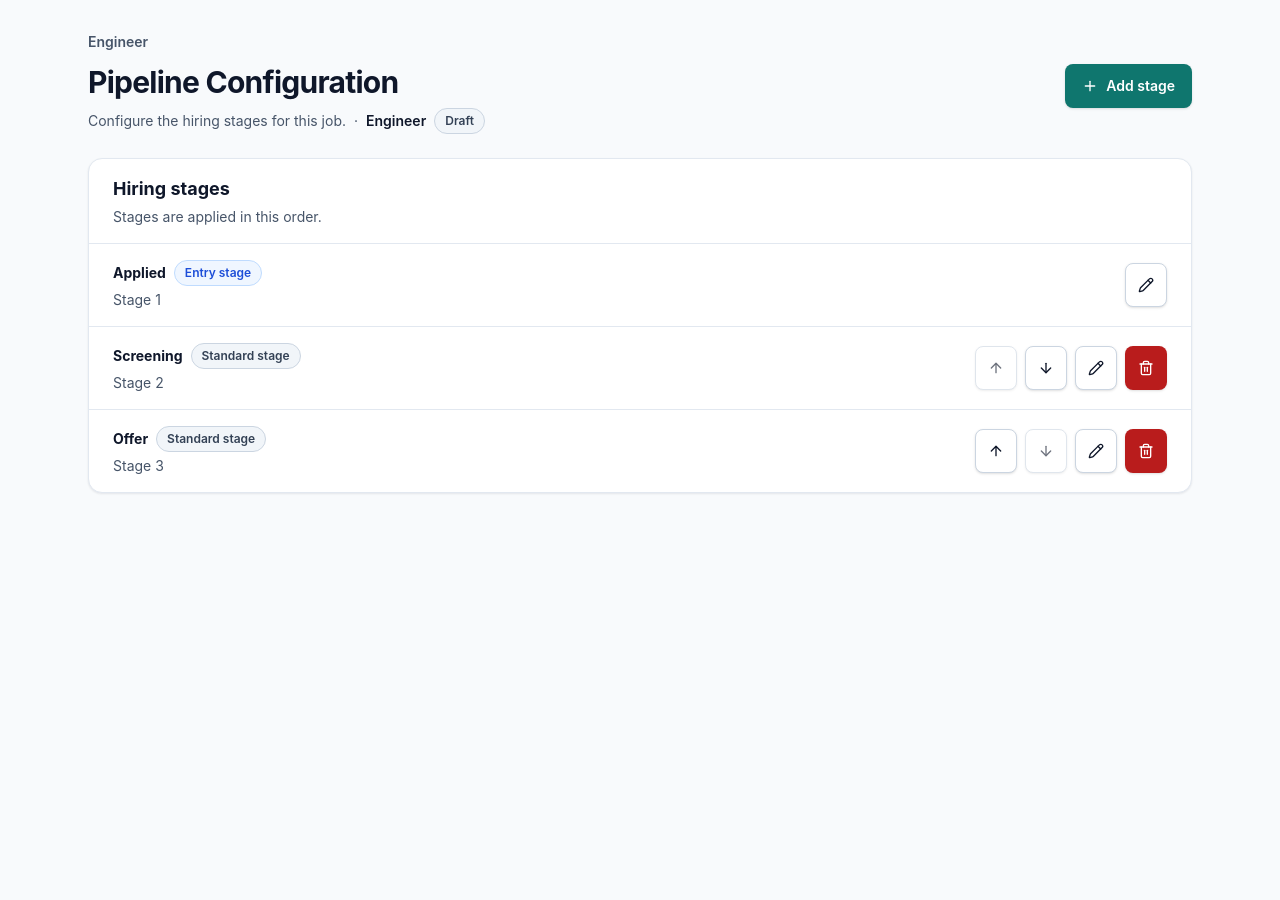
Test: Pipeline Configuration page › keeps the stage dialog and entered name after a rejected update
This screenshot has width=1280, height=900.
Click the button "Add stage" at (1129, 86), box [1065,64,1192,108]
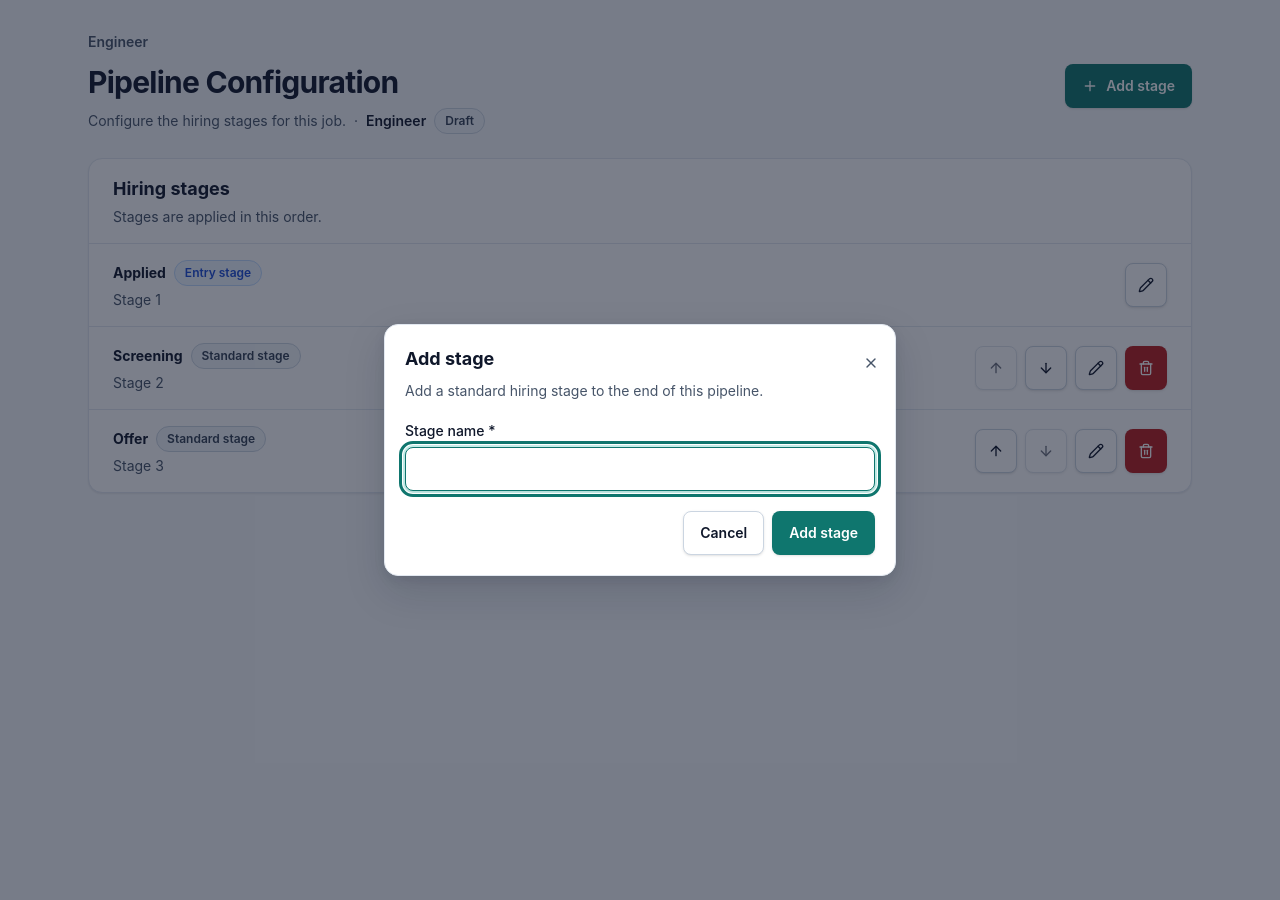
Type "Technical" into the field labelled "Stage name *" at (640, 469), box [405,447,875,491]
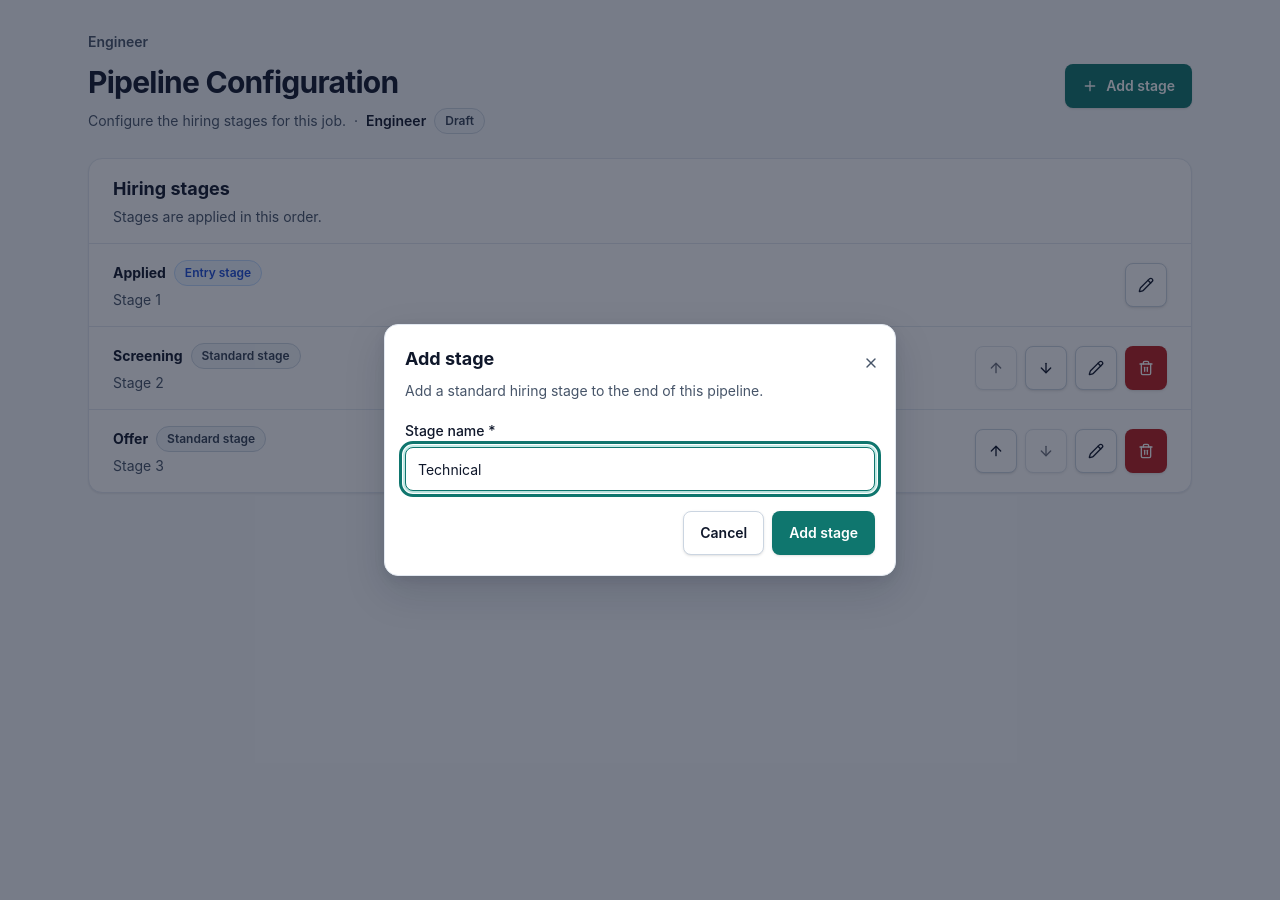
Click the button "Add stage" at (824, 533), box [772,511,875,555]
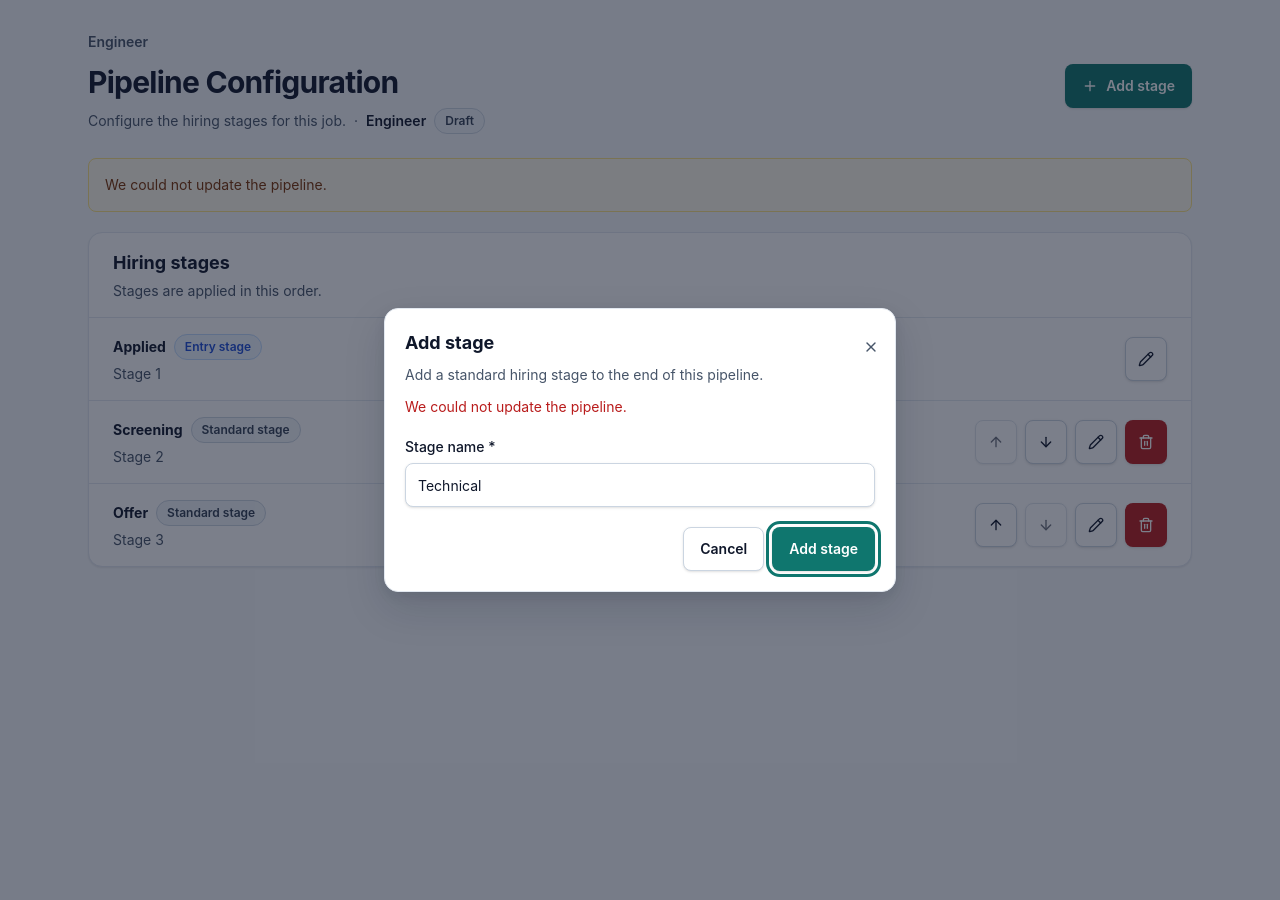
expect the dialog "Add stage" is shown: met, box [384,308,896,592]
expect the message "We could not update the pipeline." is shown: met, box [405,398,627,415]
